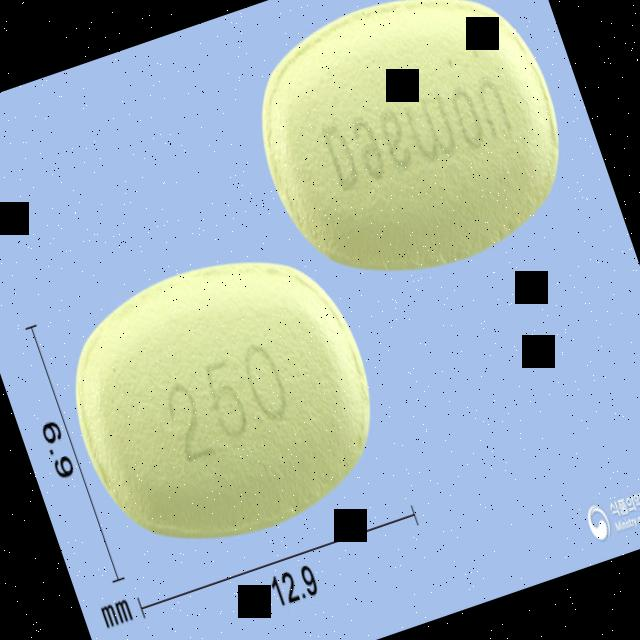Clasin: (38, 220, 404, 576), (227, 0, 597, 316)
